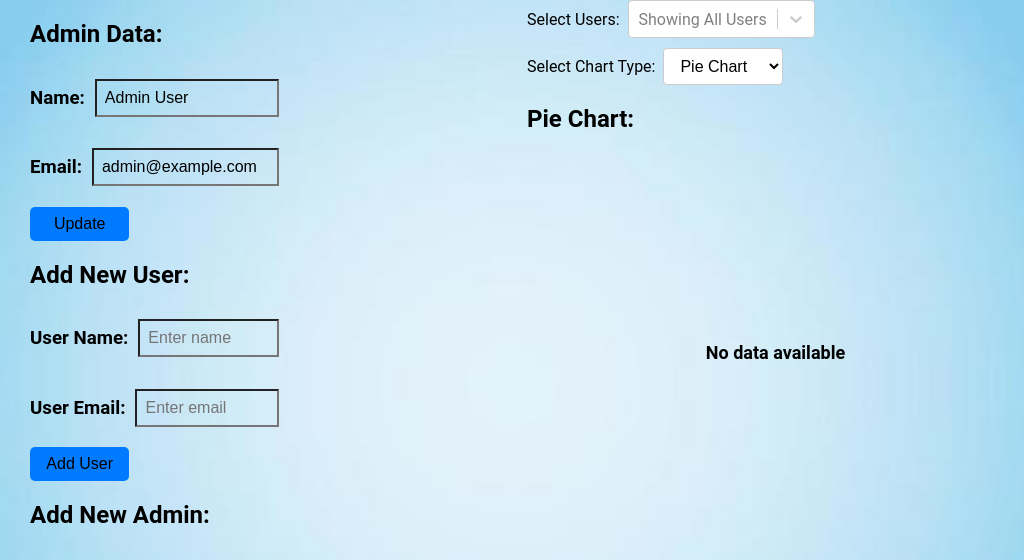
Test: AdminProfile Component › should display error message for invalid admin email format
Replace the text in the field with test id "admin-data-email" with "invalid-email" at (185, 167), box [92, 148, 278, 186]
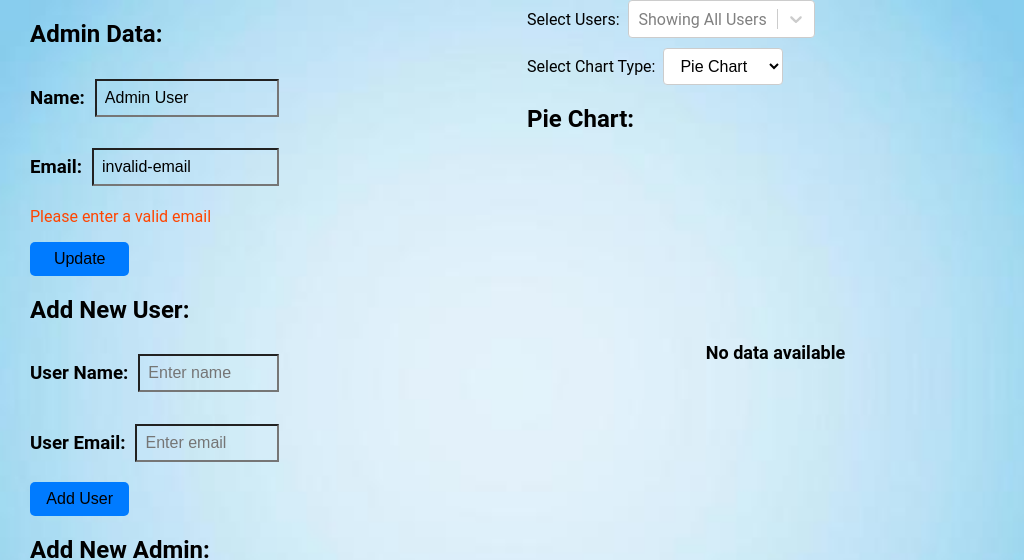
Now the text "Please enter a valid email" is shown, box [30, 207, 211, 226]
